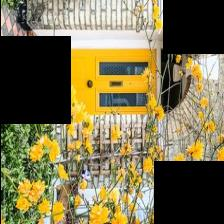yellow: (54, 49, 154, 115), (59, 85, 87, 137), (43, 49, 58, 116), (14, 179, 43, 212), (28, 136, 59, 162), (29, 93, 51, 125), (173, 155, 189, 188), (88, 206, 108, 224), (152, 202, 168, 224), (186, 140, 202, 160), (110, 206, 127, 224), (216, 148, 224, 170)
